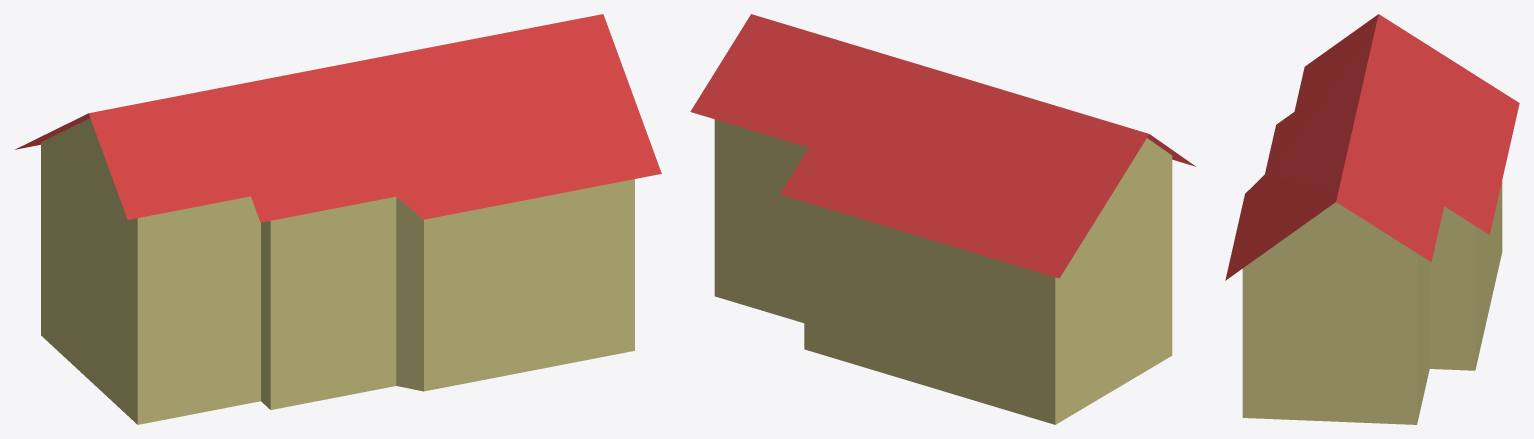
3 renders of one model, left to right at view 1: azimuth 30°, elevation 25°; view 2: azimuth 150°, elevation 25°; view 3: azimuth 270°, elevation 25°, orthographic. The views are drawn at different scales.
Size of the model in its own units: 21.6 by 13.79 by 11.71.
